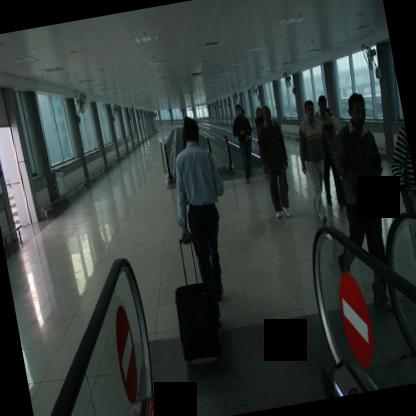suitcase: (174, 240, 221, 361)
